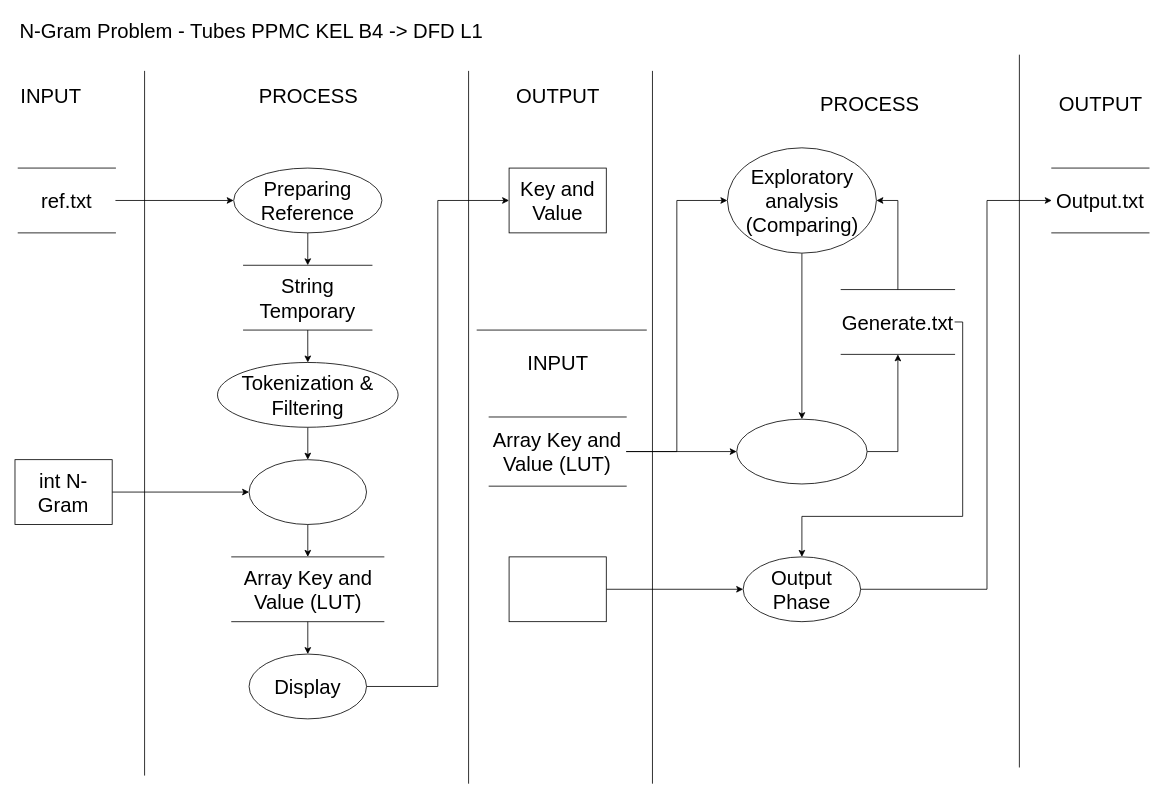
This 1163x799 diagram has some shape labels left out. The centre of each missing label's shape, as x and y in pixels:
int n: the point at 557,589
Modeling: the point at 307,491
Prediction: the point at 801,451
